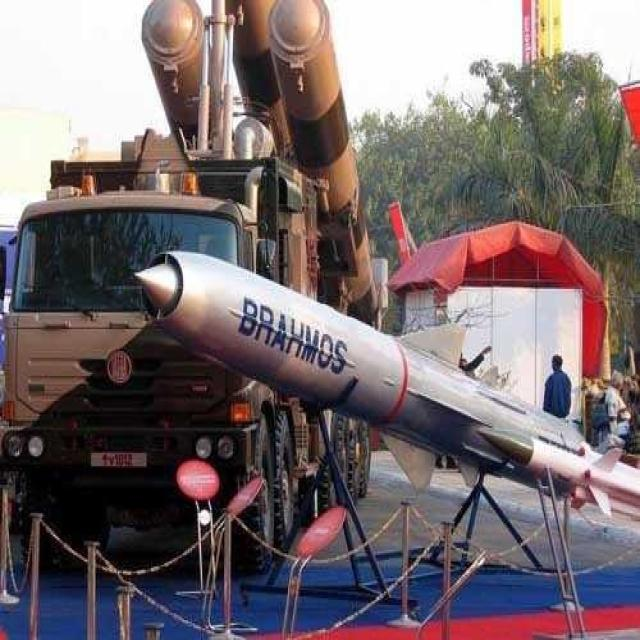missile: (134, 240, 640, 520)
